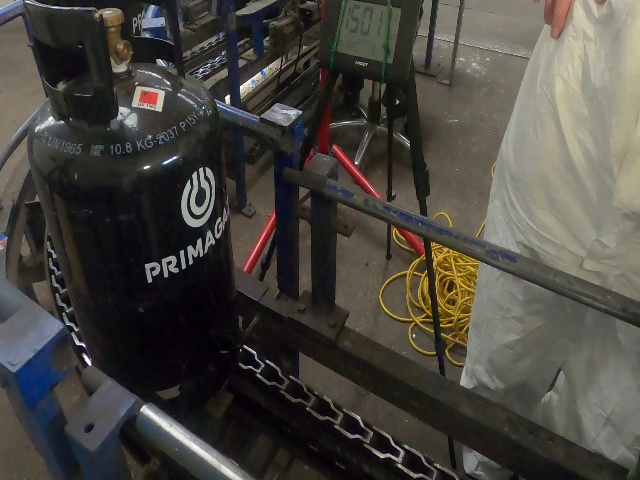gas_bottle: (0, 2, 637, 480)
